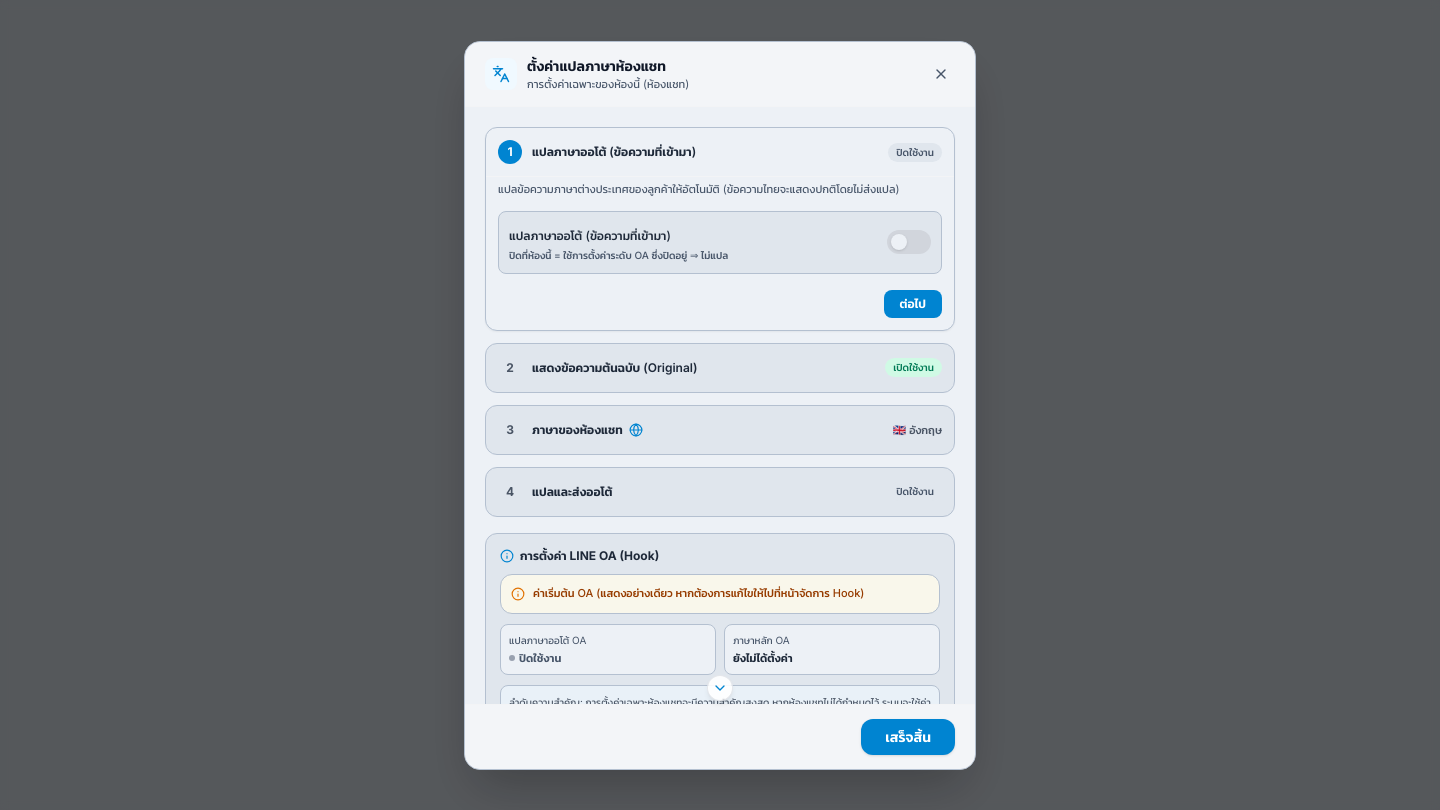
Test: [SHOWORIGSRC] the "ตอนนี้" line states the resolved answer › ห้องยกให้ค่ากลาง · ค่ากลางเปิด
This screenshot has width=1440, height=810.
Click the button with test id "room-wizard-step-2-btn" at x=615, y=367, box [486, 344, 954, 392]
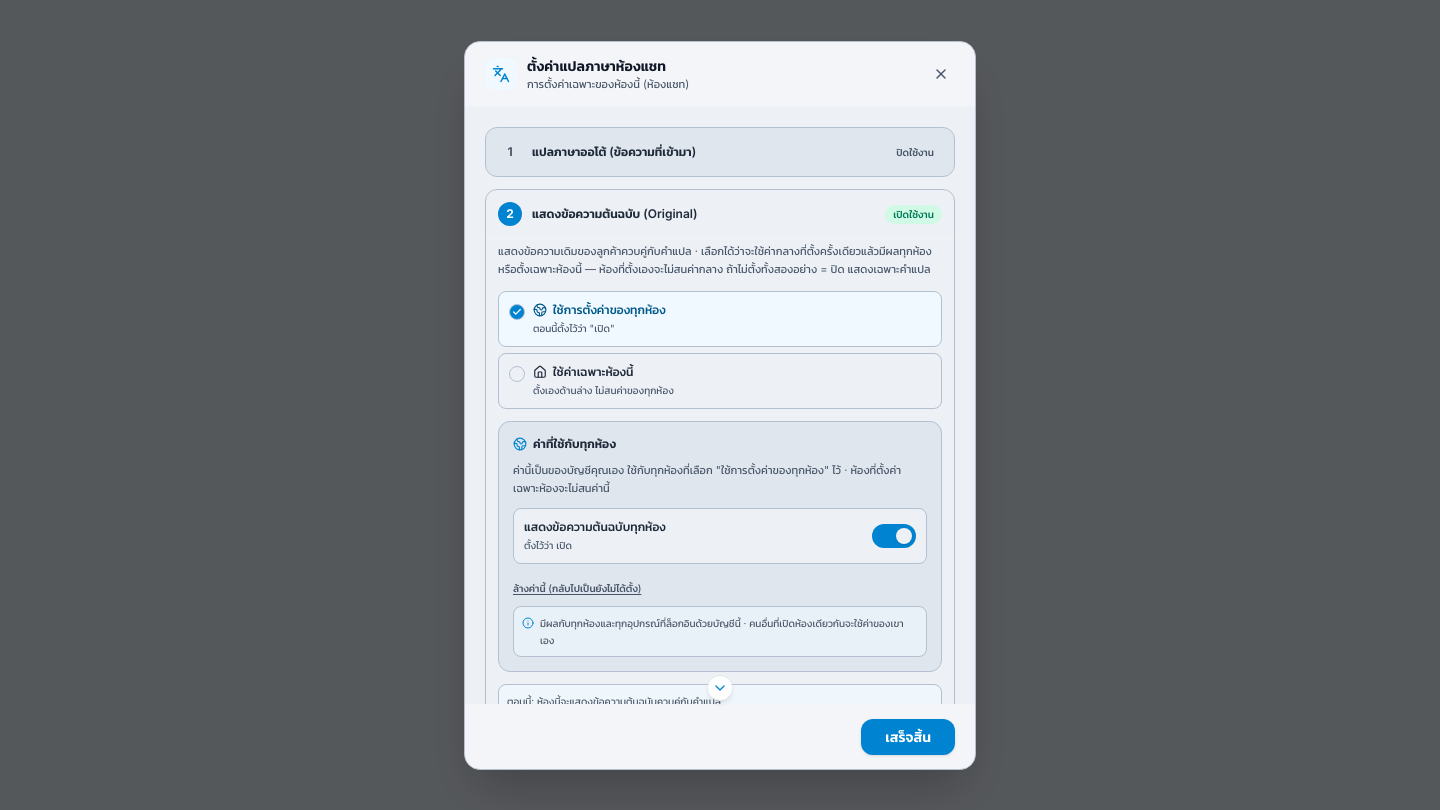
Expected: the text with test id "room-modal-show-original-effective" shows "แสดงข้อความต้นฉบับควบคู่", [507, 695, 721, 704]
